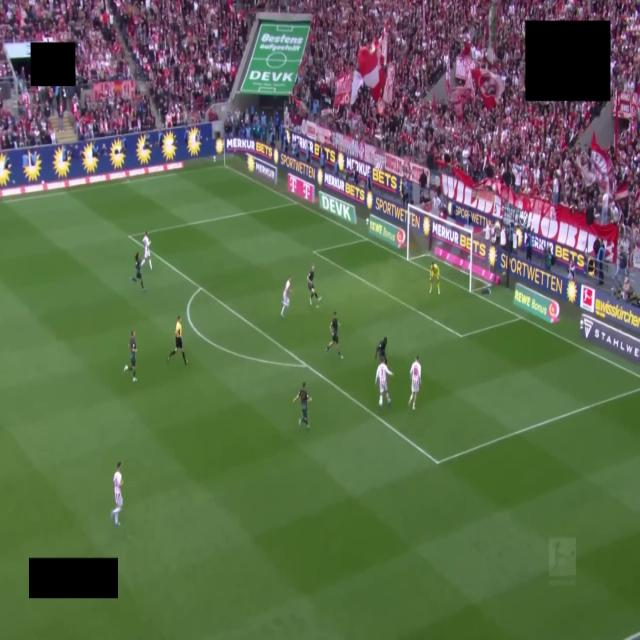ball: (379, 397, 382, 406)
player: (294, 383, 311, 429), (375, 361, 392, 406), (326, 312, 342, 359), (111, 462, 122, 526), (409, 357, 421, 409), (124, 331, 136, 382), (130, 253, 145, 290), (308, 265, 321, 303), (281, 276, 291, 317), (142, 232, 152, 270), (430, 262, 440, 294), (376, 337, 387, 363)
referee: (168, 316, 187, 365)
